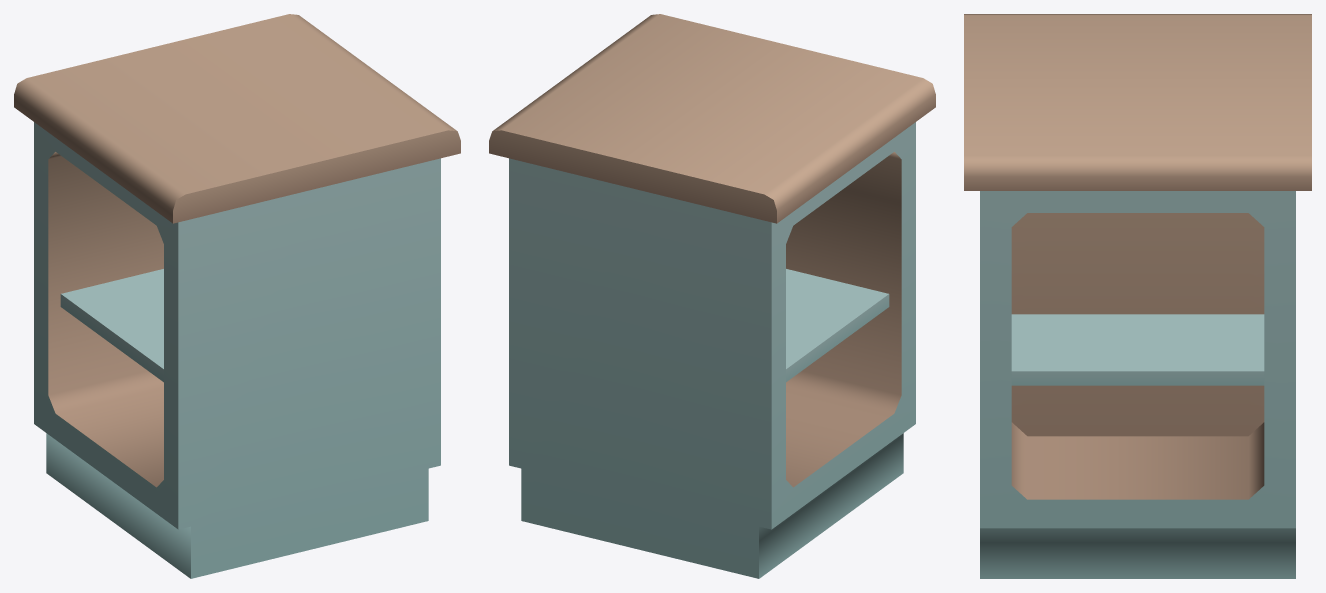
File: cabinet-decorative-island.glb
The picture shows the model from 3 angles, left to right: view 1: azimuth 30°, elevation 25°; view 2: azimuth 150°, elevation 25°; view 3: azimuth 270°, elevation 25°; orthographic projection. The views are drawn at different scales.
Visible parts, largest first — view 1: cabinet-decorative-island; view 2: cabinet-decorative-island; view 3: cabinet-decorative-island.
Boxes of the visible parts, x1=… form: cabinet-decorative-island: x1=14, y1=14, x2=460, y2=578; cabinet-decorative-island: x1=489, y1=14, x2=935, y2=578; cabinet-decorative-island: x1=964, y1=14, x2=1311, y2=578.
Bounding box in the file's own units: 0.575 × 0.75 × 0.55.
